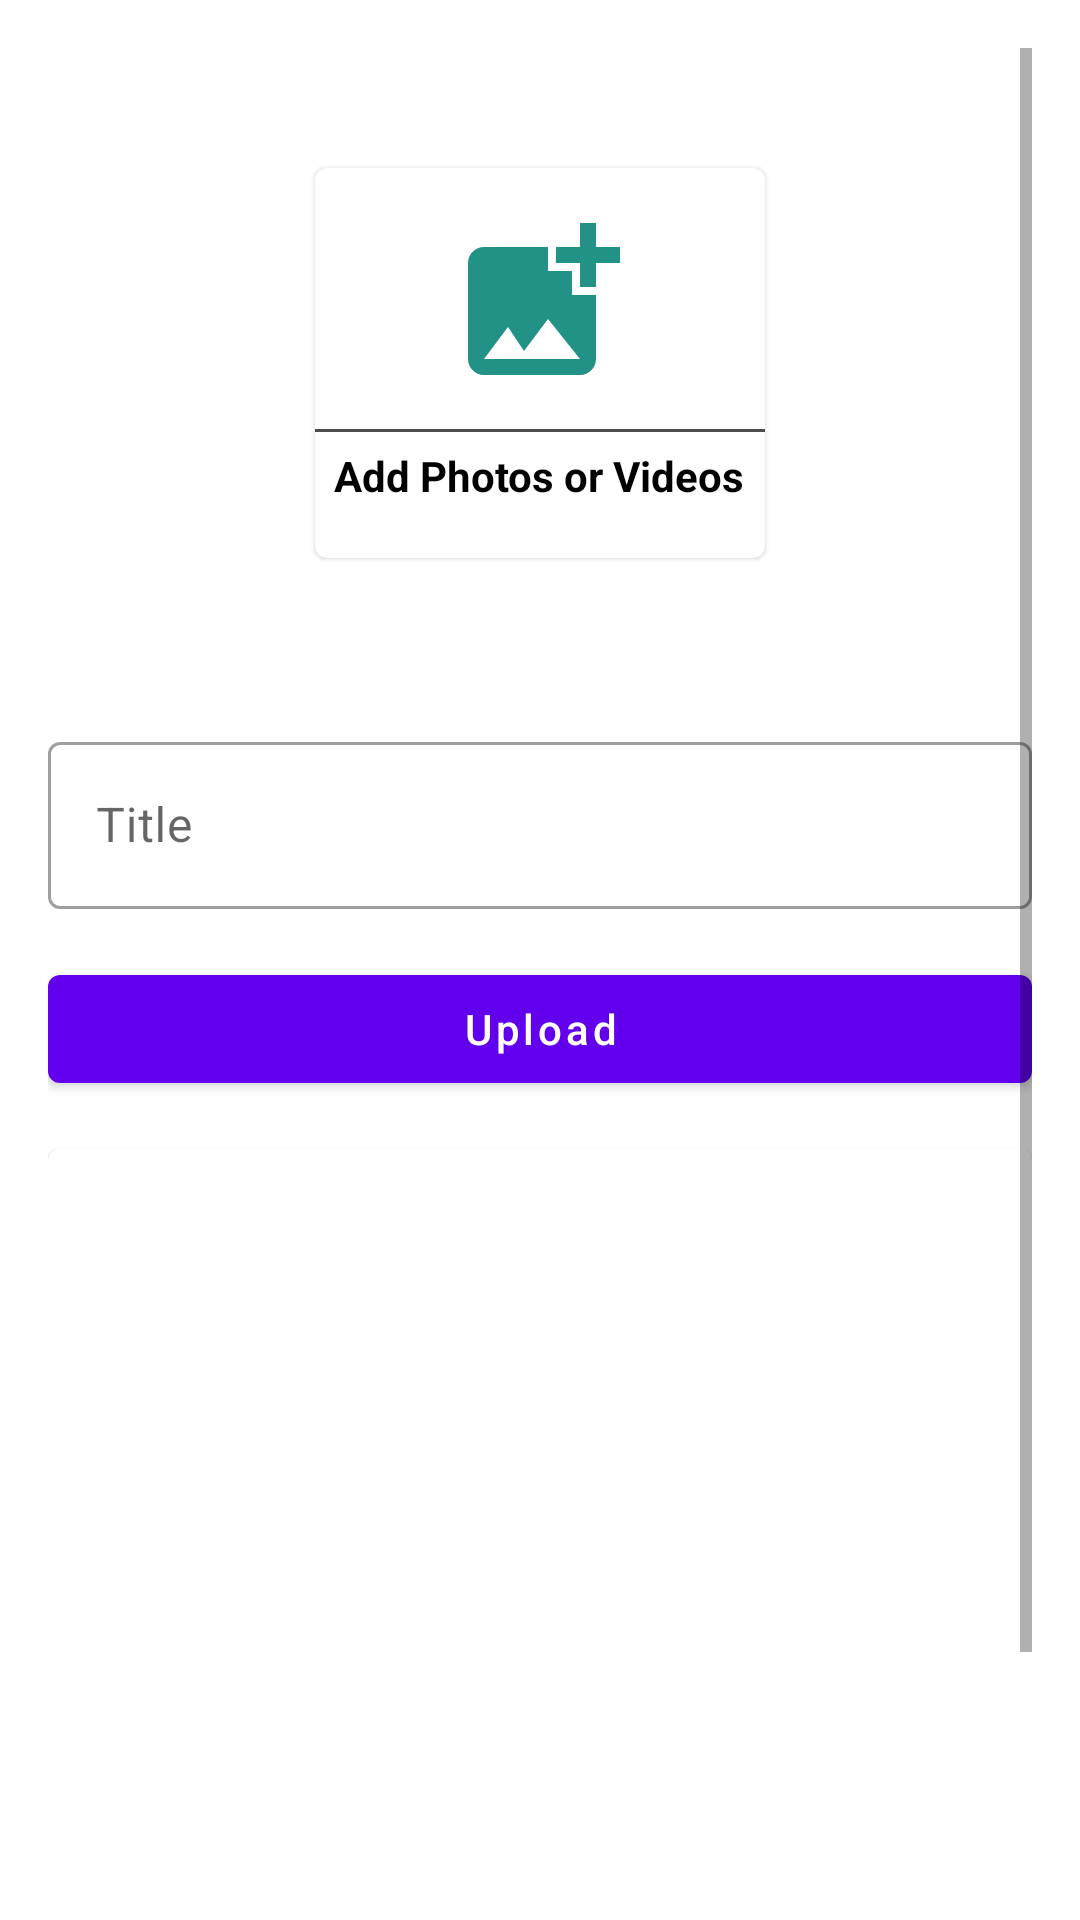

Icons on this 1080*1920 Android screen, each with its box as (x1, y1, x2, y2):
addimage: (468, 223, 620, 375)
